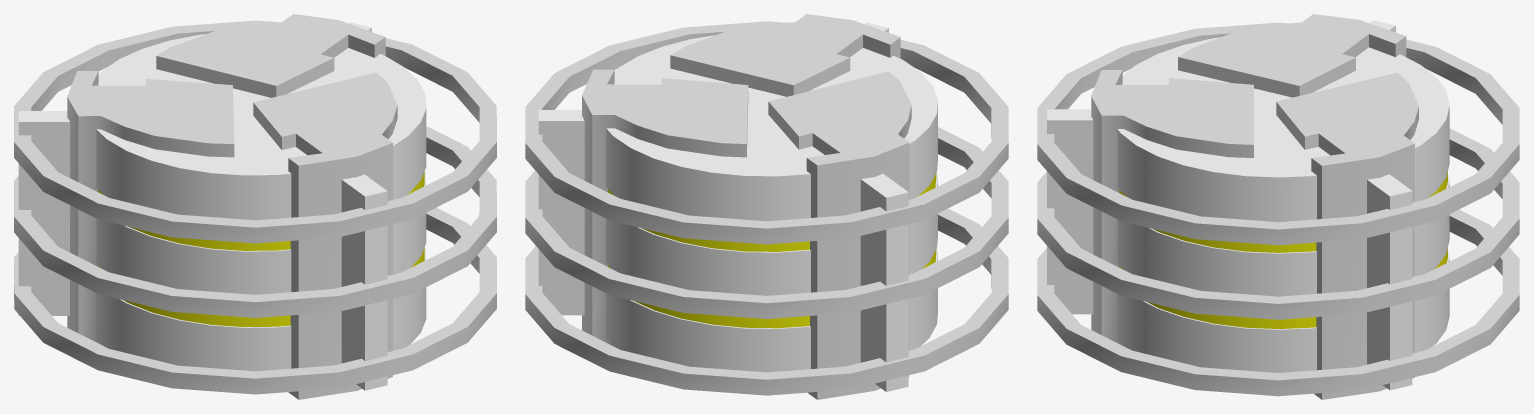
The model's file is Power Station.dae.
3 views of the same model, side by side, from view 1: azimuth 30°, elevation 25°; view 2: azimuth 150°, elevation 25°; view 3: azimuth 270°, elevation 25° (orthographic).
Parts seen in each view (by area): view 1: Polygon_Mesh (×11); view 2: Polygon_Mesh (×11); view 3: Polygon_Mesh (×11).
Boxes of the visible parts, <box> form: Polygon_Mesh (×11): <box>14,14,496,399</box>; Polygon_Mesh (×11): <box>525,14,1008,399</box>; Polygon_Mesh (×11): <box>1037,14,1519,399</box>.
Bounding box in the file's own units: 466 × 246 × 459.
